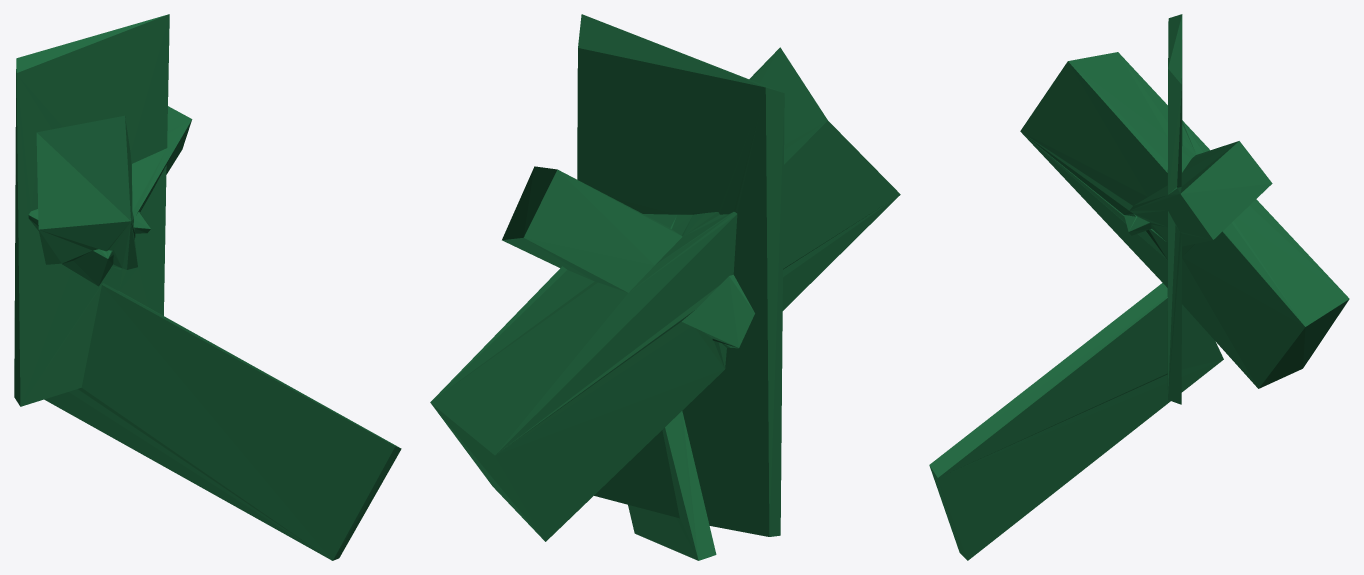
3 views of the same model, side by side, from view 1: azimuth 30°, elevation 25°; view 2: azimuth 150°, elevation 25°; view 3: azimuth 270°, elevation 25° (orthographic). The views are drawn at different scales.
Visible parts, largest first — view 1: 849_Cube.3427; view 2: 849_Cube.3427; view 3: 849_Cube.3427.
Part boxes in pixels (x1=…): 849_Cube.3427: x1=14, y1=14, x2=401, y2=560; 849_Cube.3427: x1=430, y1=14, x2=900, y2=560; 849_Cube.3427: x1=929, y1=14, x2=1349, y2=560.
Bounding box in the file's own units: 11.25 × 17.49 × 14.42.
